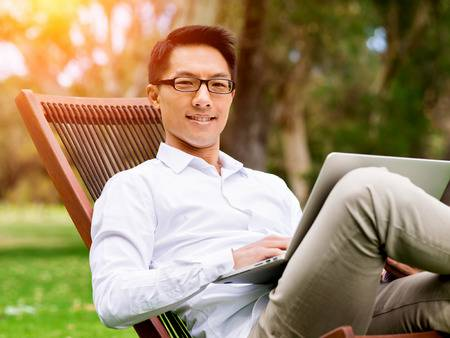F_shirt: (87, 141, 306, 338)
